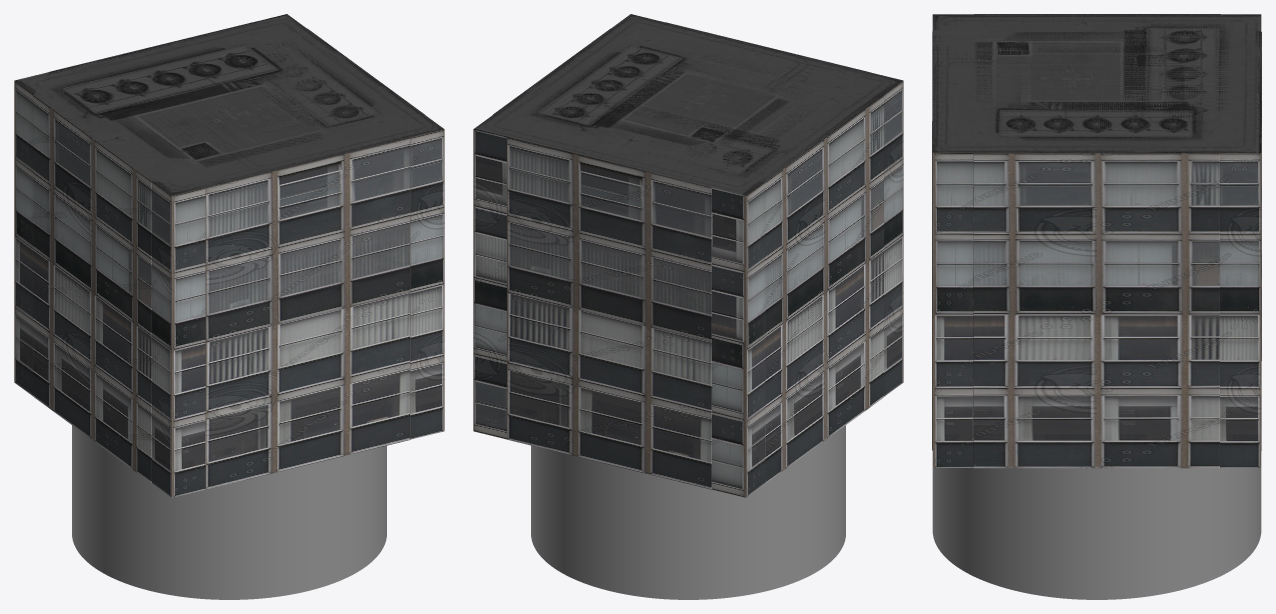
The model's file is Buildings_Standin BAK.fbx.
3 renders of one model, left to right at view 1: azimuth 30°, elevation 25°; view 2: azimuth 150°, elevation 25°; view 3: azimuth 270°, elevation 25°, orthographic. The views are drawn at different scales.
Visible parts, largest first — view 1: Taxi_Building_B, Taxi_Building_A, Taxi_Landing_Pad; view 2: Taxi_Building_B, Taxi_Building_A, Taxi_Landing_Pad; view 3: Taxi_Building_B, Taxi_Building_A, Taxi_Landing_Pad.
Boxes of the visible parts, box(x1,y1,x2,y2) form: Taxi_Building_B: box(33, 22, 424, 489); Taxi_Building_A: box(14, 14, 444, 497); Taxi_Landing_Pad: box(72, 425, 386, 599); Taxi_Building_B: box(493, 22, 883, 489); Taxi_Building_A: box(473, 14, 903, 497); Taxi_Landing_Pad: box(531, 425, 845, 599); Taxi_Building_B: box(932, 14, 1261, 468); Taxi_Building_A: box(932, 14, 1261, 467); Taxi_Landing_Pad: box(932, 468, 1261, 599).
Bounding box in the file's own units: 1 × 1.5 × 1.
